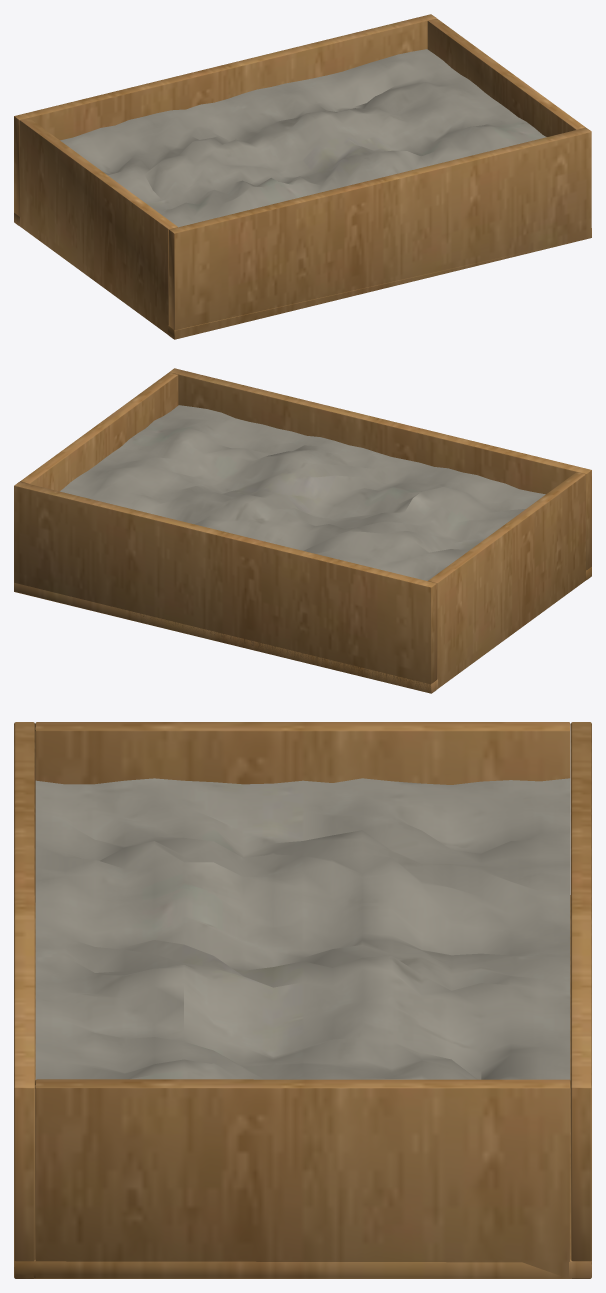
Rendered from REV-ARG-004_lod1.glb.
3 renders of one model, top to bottom at view 1: azimuth 30°, elevation 25°; view 2: azimuth 150°, elevation 25°; view 3: azimuth 270°, elevation 25°, orthographic. The views are drawn at different scales.
Visible parts, largest first — view 1: REV-ARG-004_lado-1, REV-ARG-004_argamassa, REV-ARG-004_cab-1, REV-ARG-004_lado1, REV-ARG-004_cab1, REV-ARG-004_fundo; view 2: REV-ARG-004_lado1, REV-ARG-004_argamassa, REV-ARG-004_cab-1, REV-ARG-004_lado-1, REV-ARG-004_cab1, REV-ARG-004_fundo; view 3: REV-ARG-004_argamassa, REV-ARG-004_cab1, REV-ARG-004_cab-1, REV-ARG-004_lado-1, REV-ARG-004_lado1, REV-ARG-004_fundo.
Boxes of the visible parts, x1=… form: REV-ARG-004_lado-1: x1=169, y1=127, x2=591, y2=339; REV-ARG-004_argamassa: x1=60, y1=49, x2=546, y2=227; REV-ARG-004_cab-1: x1=19, y1=118, x2=177, y2=334; REV-ARG-004_lado1: x1=14, y1=14, x2=436, y2=225; REV-ARG-004_cab1: x1=427, y1=18, x2=585, y2=136; REV-ARG-004_fundo: x1=14, y1=213, x2=591, y2=339; REV-ARG-004_lado1: x1=14, y1=481, x2=436, y2=692; REV-ARG-004_argamassa: x1=60, y1=405, x2=545, y2=580; REV-ARG-004_cab-1: x1=428, y1=472, x2=585, y2=688; REV-ARG-004_lado-1: x1=169, y1=368, x2=591, y2=579; REV-ARG-004_cab1: x1=20, y1=372, x2=178, y2=491; REV-ARG-004_fundo: x1=14, y1=567, x2=591, y2=693; REV-ARG-004_argamassa: x1=35, y1=778, x2=570, y2=1079; REV-ARG-004_cab1: x1=35, y1=1079, x2=570, y2=1278; REV-ARG-004_cab-1: x1=35, y1=722, x2=570, y2=902; REV-ARG-004_lado-1: x1=14, y1=722, x2=35, y2=1278; REV-ARG-004_lado1: x1=570, y1=722, x2=591, y2=1278; REV-ARG-004_fundo: x1=14, y1=895, x2=591, y2=1278.
Size of the model in its own units: 0.9 by 0.22 by 0.6.
2 materials, 2 textured.
